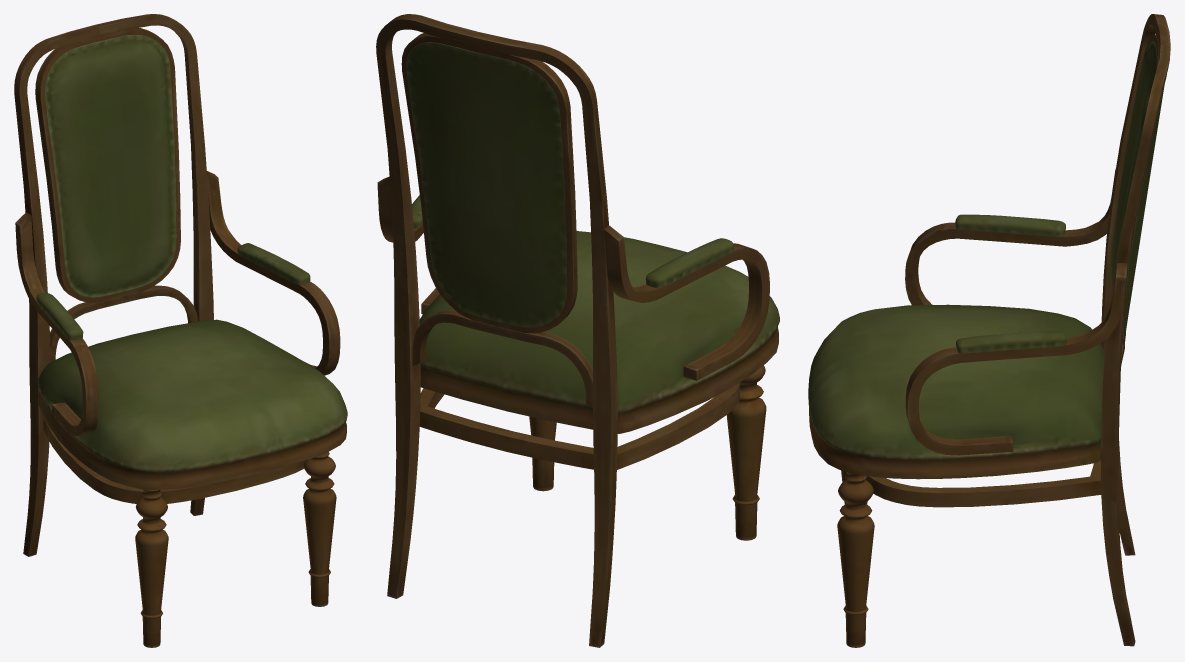
File: SM_chair_d153f1.glb
The picture shows the model from 3 angles, left to right: view 1: azimuth 30°, elevation 25°; view 2: azimuth 150°, elevation 25°; view 3: azimuth 270°, elevation 25°; orthographic projection. The views are drawn at different scales.
Size of the model in its own units: 0.5786 by 1.08 by 0.6413.
Materials: 1 (1 with a texture image).
